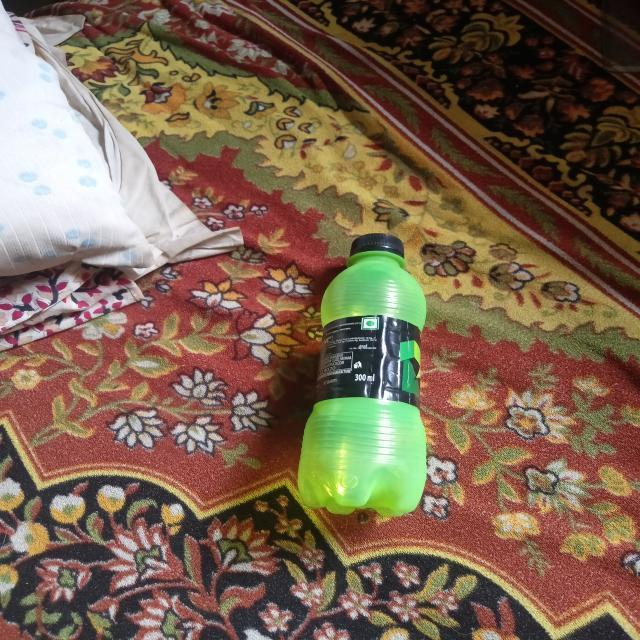plastic_bottle: (297, 233, 427, 516)
